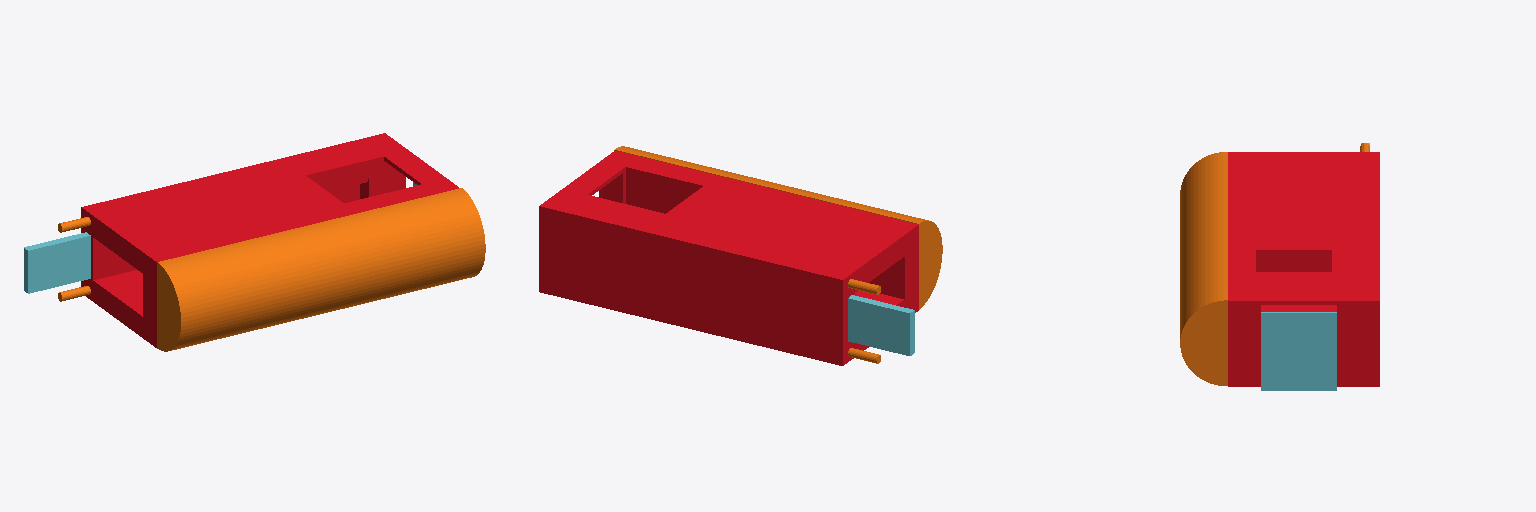
File: Train-head.obj
The picture shows the model from 3 angles: view 1: azimuth 30°, elevation 25°; view 2: azimuth 150°, elevation 25°; view 3: azimuth 270°, elevation 25°; orthographic projection.
Visible parts, largest first — view 1: obj_0; view 2: obj_0; view 3: obj_0.
Part boxes in pixels (left/top/right/bottom): obj_0: left=24, top=133, right=485, bottom=351; obj_0: left=539, top=146, right=942, bottom=365; obj_0: left=1180, top=143, right=1379, bottom=390.
Size of the model in its own units: 91 by 20.14 by 42.